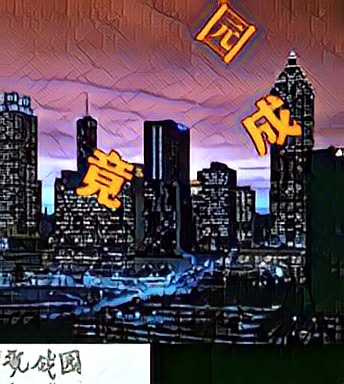B3C9: (241, 94, 301, 158)
BEB9: (76, 146, 136, 210)
D4B0: (194, 4, 254, 68)
